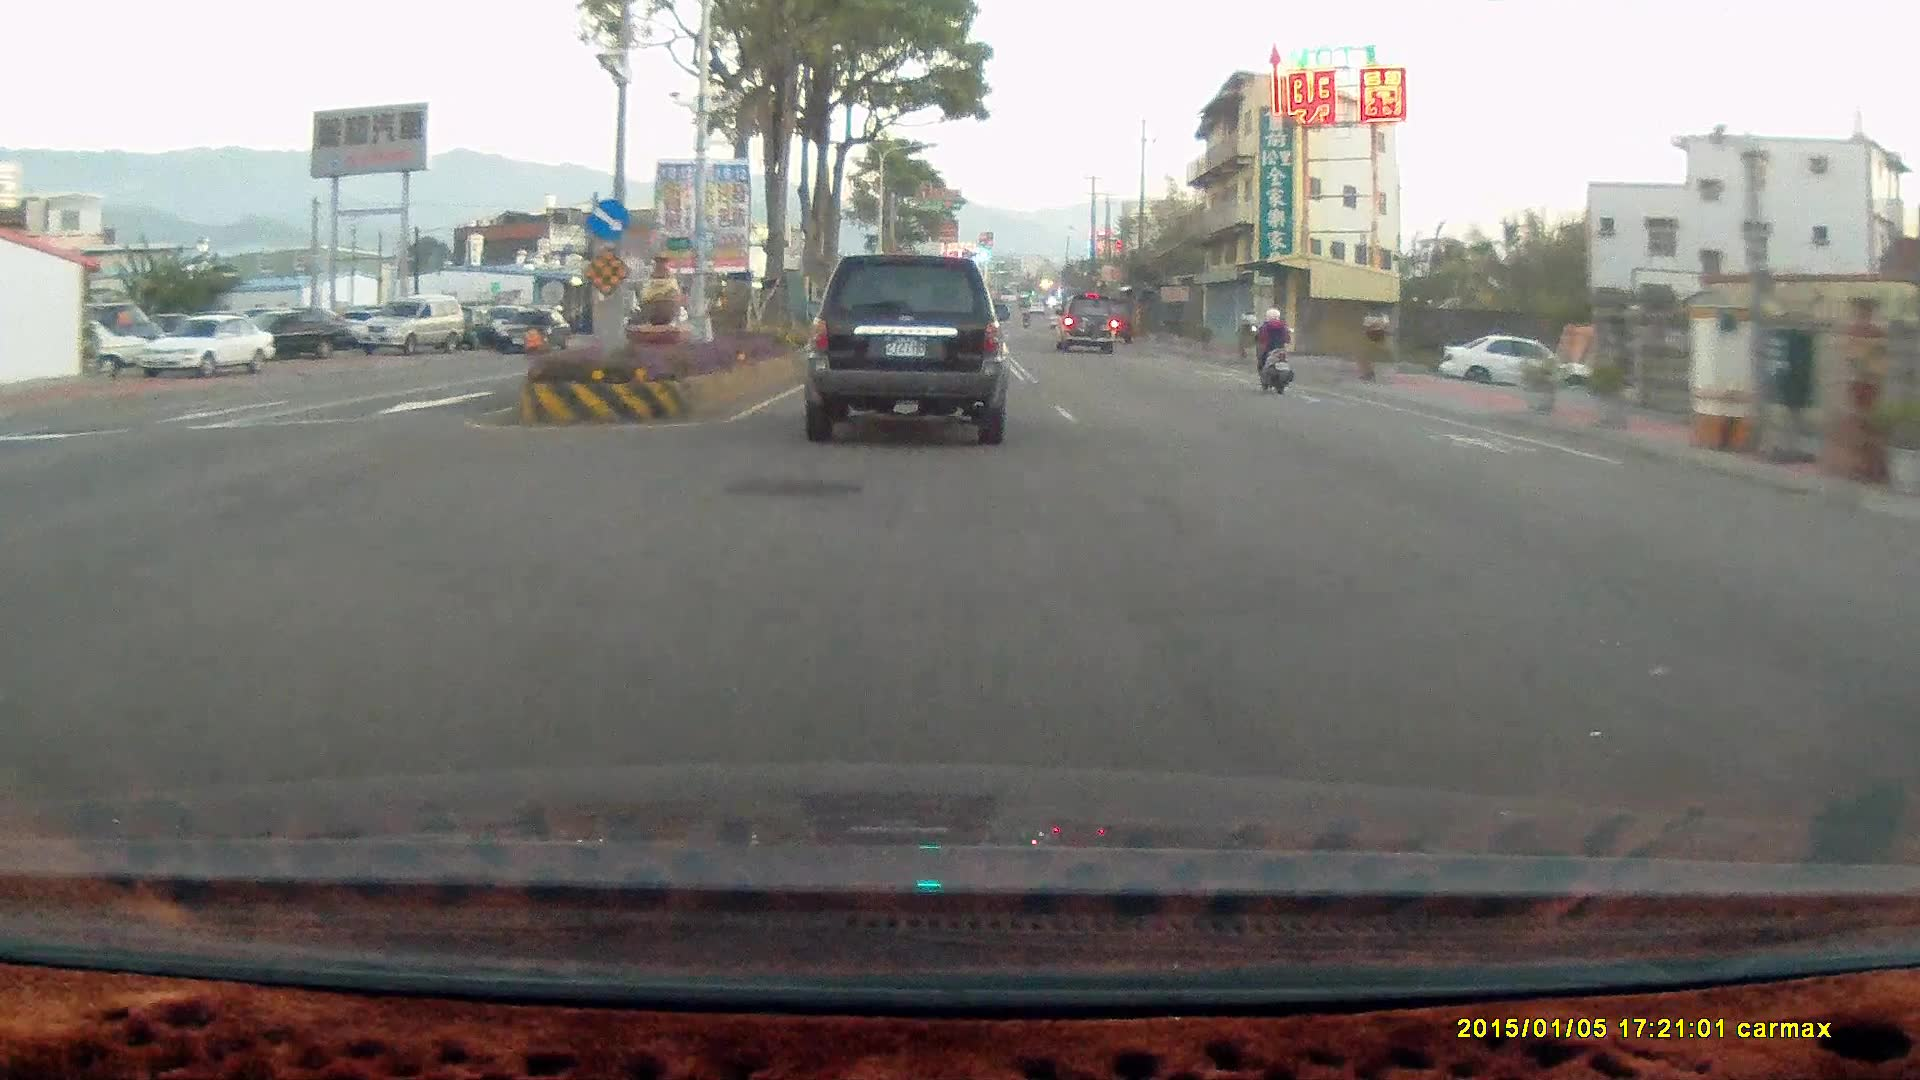rider: (1242, 299, 1303, 401), (1248, 301, 1293, 392), (518, 303, 551, 361)
vehicle: (800, 245, 1011, 446), (800, 249, 1010, 444), (1436, 332, 1597, 393), (1442, 340, 1603, 399), (131, 312, 275, 377), (137, 311, 277, 376), (243, 303, 360, 359), (359, 291, 468, 351), (357, 292, 466, 351), (238, 309, 358, 360), (1053, 291, 1117, 351), (502, 308, 576, 357), (1059, 295, 1117, 358), (501, 308, 575, 356)
